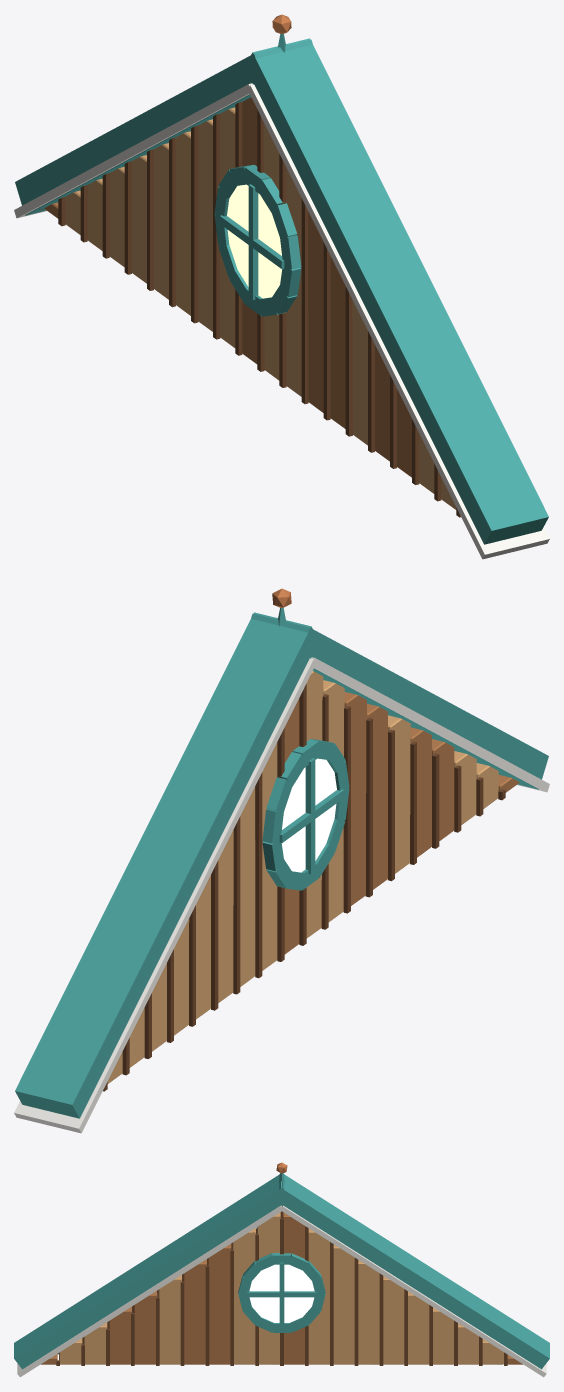
The model's file is gable_top.glb.
3 views of the same model, one above another, from view 1: azimuth 30°, elevation 25°; view 2: azimuth 150°, elevation 25°; view 3: azimuth 270°, elevation 25° (orthographic). The views are drawn at different scales.
Parts seen in each view (by area): view 1: Gable Top; view 2: Gable Top; view 3: Gable Top.
Part boxes in pixels (x1,y1,x2,y2): Gable Top: (14, 14, 549, 559); Gable Top: (14, 588, 549, 1133); Gable Top: (14, 1162, 549, 1377).
Bounding box in the file's own units: 0.34 × 1.83 × 4.31.
Materials: 2 (1 with a texture image).
